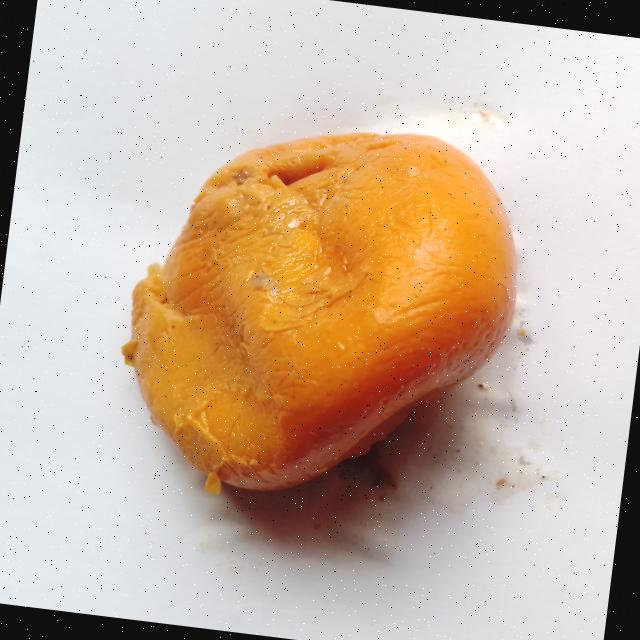Rotten: (107, 98, 538, 518)
